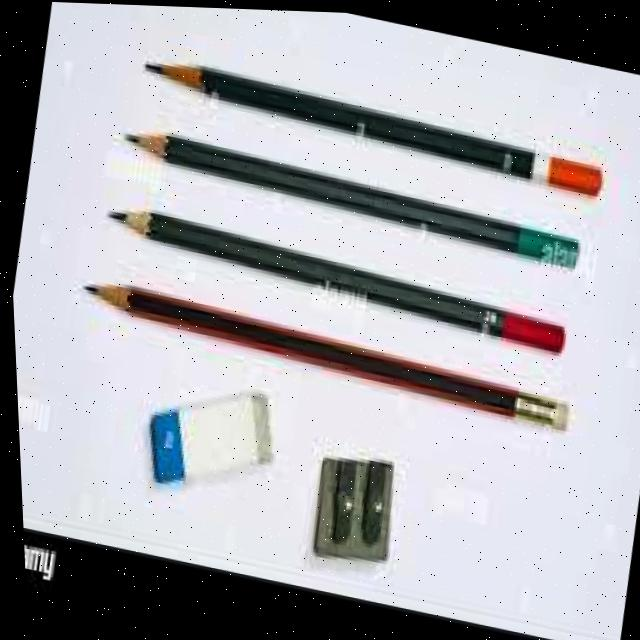pencil: (77, 275, 568, 423), (98, 203, 564, 345), (139, 52, 603, 189), (118, 125, 578, 261)
